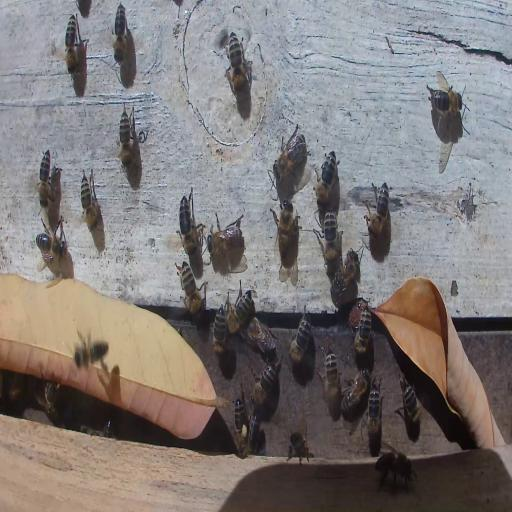bee: (374, 445, 417, 496), (208, 210, 243, 264), (273, 126, 306, 182), (331, 246, 362, 300), (176, 260, 205, 316), (274, 196, 296, 265), (226, 28, 248, 96), (319, 342, 340, 412), (249, 360, 279, 409), (288, 305, 312, 366), (366, 180, 391, 236), (314, 150, 338, 208), (232, 397, 254, 460), (224, 287, 253, 334), (79, 168, 99, 234), (398, 377, 422, 432), (317, 211, 338, 271), (342, 370, 370, 414), (178, 189, 196, 257), (351, 303, 372, 361), (427, 88, 467, 117), (72, 333, 108, 365), (245, 316, 276, 353), (118, 108, 135, 172), (366, 383, 381, 455), (64, 12, 80, 74), (35, 230, 66, 261), (37, 149, 53, 209), (37, 379, 59, 421), (113, 3, 127, 64), (287, 428, 310, 464), (211, 308, 226, 353), (101, 418, 113, 436)
